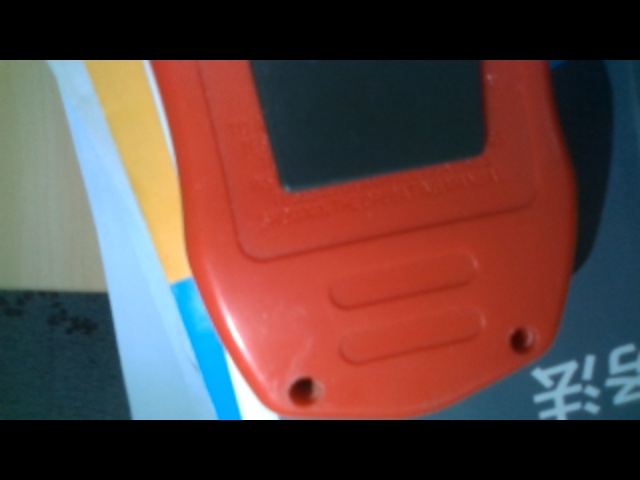Screw holes: (287, 374, 328, 409), (509, 324, 538, 356)
